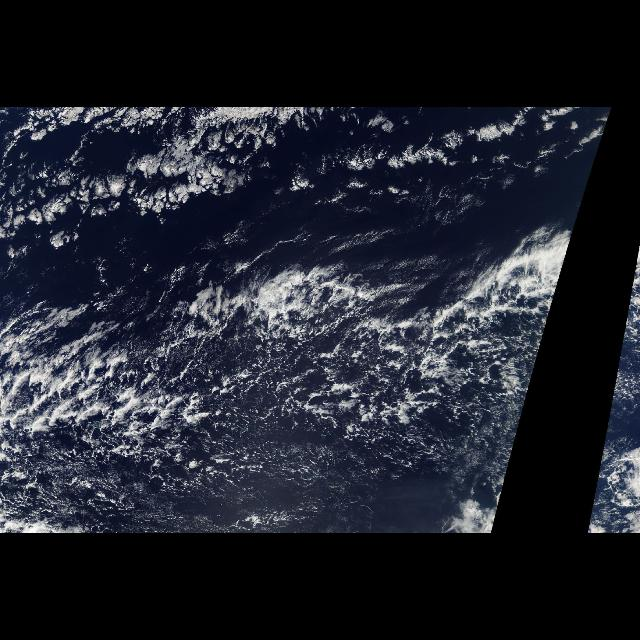Fish: (7, 266, 529, 458)
Gravel: (6, 262, 564, 530)
Sugar: (198, 215, 512, 517)
